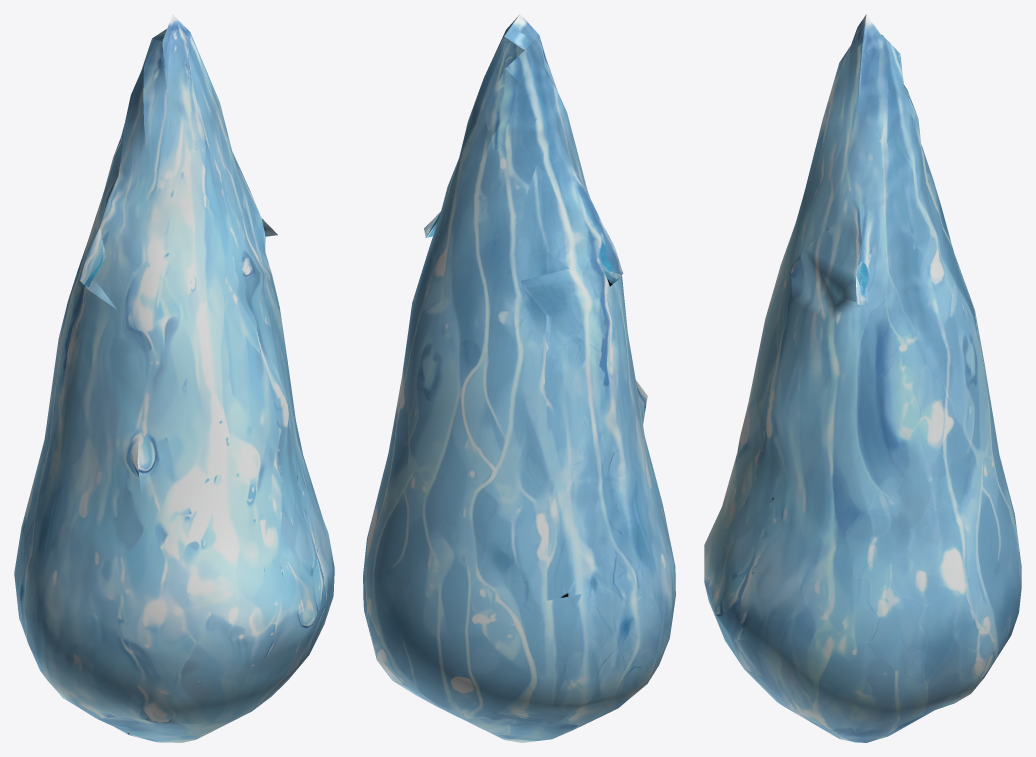
The model's file is Saliva.fbx.
3 views of the same model, side by side, from view 1: azimuth 30°, elevation 25°; view 2: azimuth 150°, elevation 25°; view 3: azimuth 270°, elevation 25° (orthographic).
Parts seen in each view (by area): view 1: output; view 2: output; view 3: output.
Part boxes in pixels (bbox=[...]): output: bbox=[14, 14, 334, 742]; output: bbox=[363, 14, 675, 742]; output: bbox=[704, 14, 1021, 742].
Size of the model in its own units: 0.7523 by 1.87 by 0.7471.
1 material, 1 textured.
